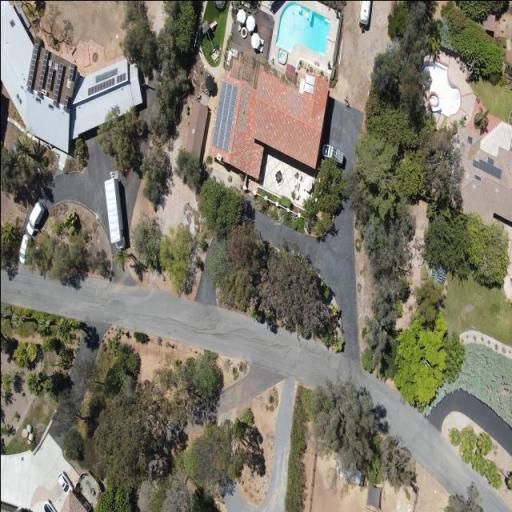solar-panel: (211, 80, 238, 151), (472, 156, 501, 179), (36, 48, 48, 97), (26, 43, 38, 91), (87, 76, 114, 95), (52, 62, 63, 105), (45, 67, 53, 89), (67, 62, 74, 79), (62, 93, 68, 110), (116, 72, 125, 83)
